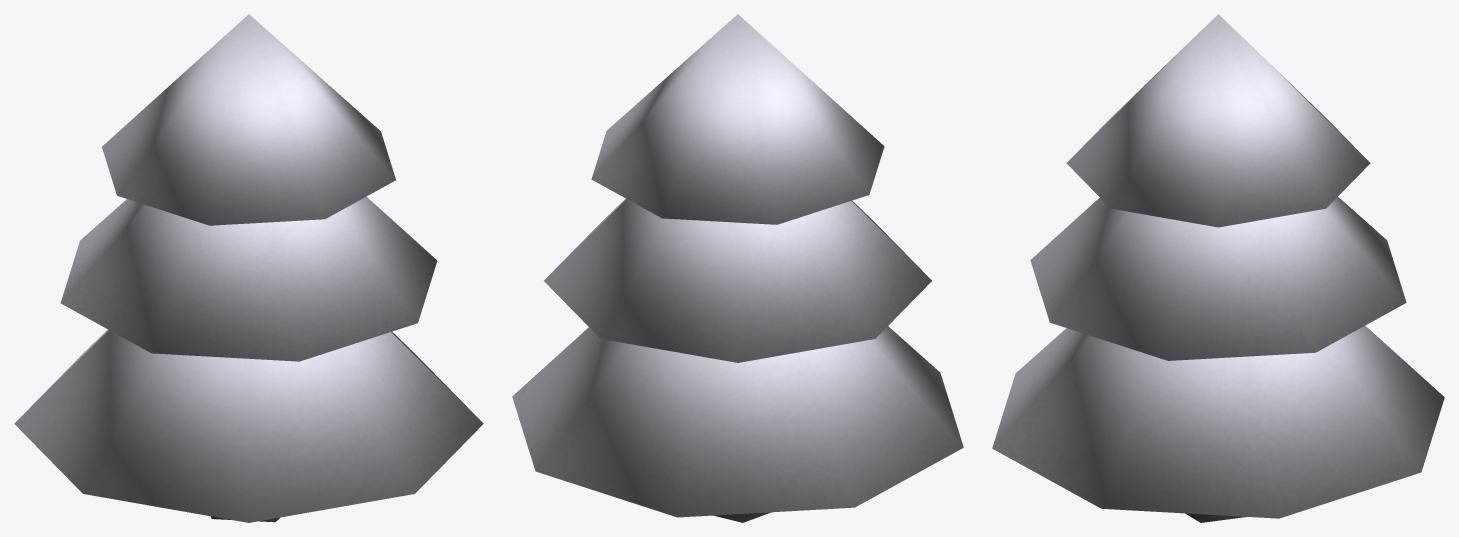
The model's file is treeFir.FBX.
3 renders of one model, left to right at view 1: azimuth 30°, elevation 25°; view 2: azimuth 150°, elevation 25°; view 3: azimuth 270°, elevation 25°, orthographic.
Parts seen in each view (by area): view 1: treeFir; view 2: treeFir; view 3: treeFir.
Part boxes in pixels (x1,y1,x2,y2): treeFir: (14, 14, 483, 522); treeFir: (512, 14, 963, 522); treeFir: (992, 14, 1444, 522).
Size of the model in its own units: 188 by 223 by 188.
